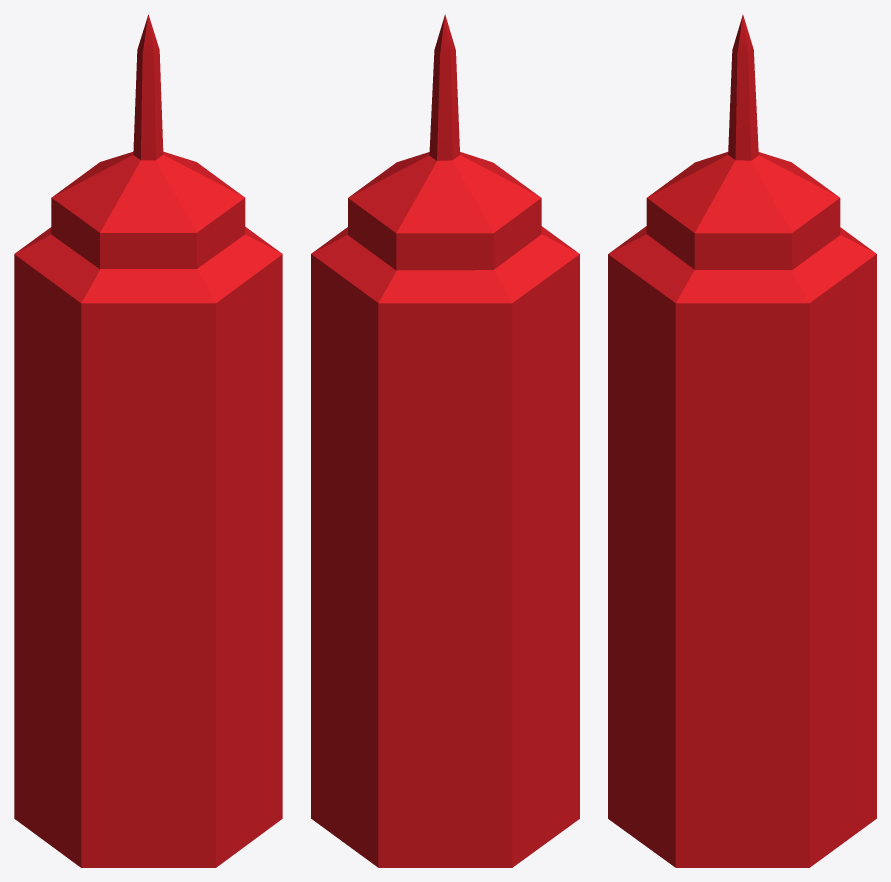
File: BotellaKetchup.fbx
The picture shows the model from 3 angles, left to right: view 1: azimuth 30°, elevation 25°; view 2: azimuth 150°, elevation 25°; view 3: azimuth 270°, elevation 25°; orthographic projection.
Visible parts, largest first — view 1: BotellaKetchup; view 2: BotellaKetchup; view 3: BotellaKetchup.
Boxes of the visible parts, bbox=[...] form: BotellaKetchup: bbox=[14, 14, 282, 867]; BotellaKetchup: bbox=[311, 14, 579, 867]; BotellaKetchup: bbox=[608, 15, 876, 867].
Size of the model in its own units: 5.02 by 19.12 by 5.79.
